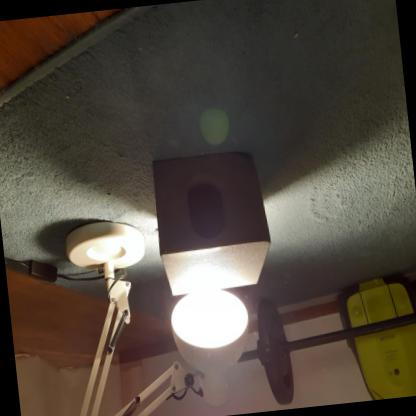CornerCasting: (149, 138, 277, 302)
